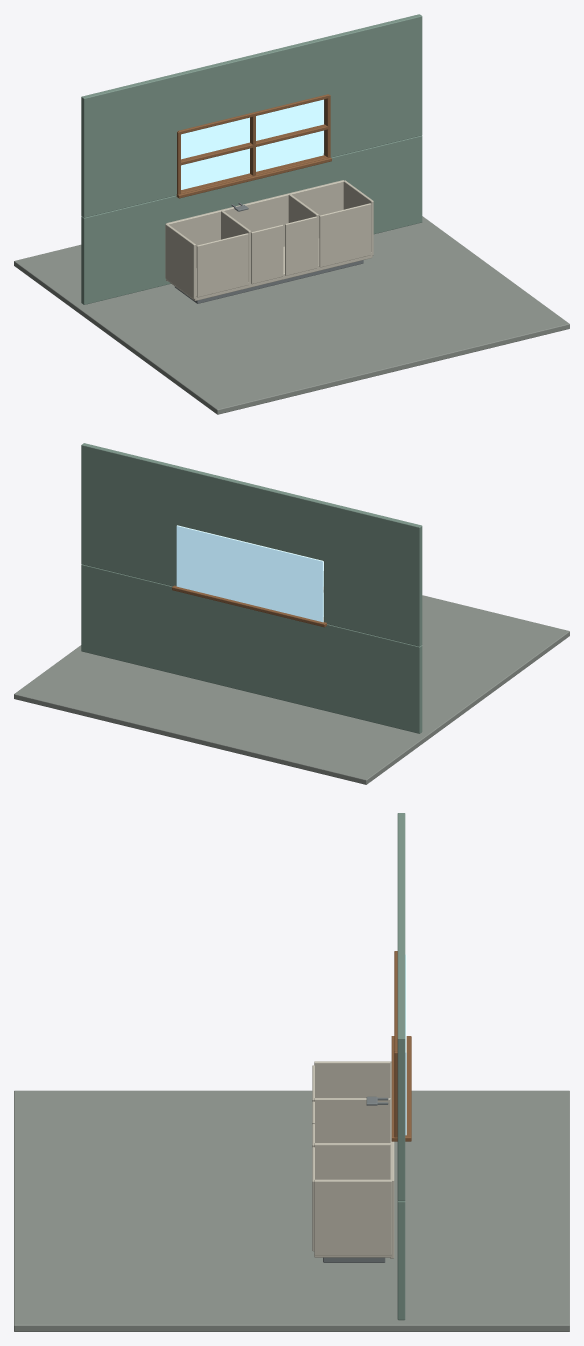
The model's file is kitchen-room-shell.glb.
3 renders of one model, top to bottom at view 1: azimuth 30°, elevation 25°; view 2: azimuth 150°, elevation 25°; view 3: azimuth 270°, elevation 25°, orthographic. The views are drawn at different scales.
Parts seen in each view (by area): view 1: Floor, Backsplash, Wall_Left, Wall_Right, Wall_Above_Window, Window_Background, Cabinet_Back, Cabinet_Front_0, Cabinet_Front_3, Cabinet_Side_0, Cabinet_Front_1, Cabinet_Front_2 (+9 smaller); view 2: Floor, Backsplash, Wall_Left, Wall_Right, Window_Background, Wall_Above_Window, Window_Sill; view 3: Floor, Cabinet_Side_3, Cabinet_Side_1, Cabinet_Side_2, Cabinet_Side_0, Wall_Right, Window_Sill, Backsplash, Wall_Above_Window.
Part boxes in pixels (bbox=[...]): Floor: bbox=[14, 216, 569, 414]; Backsplash: bbox=[81, 135, 422, 304]; Wall_Left: bbox=[81, 73, 179, 217]; Wall_Right: bbox=[324, 14, 422, 157]; Wall_Above_Window: bbox=[176, 37, 327, 130]; Window_Background: bbox=[181, 99, 323, 189]; Cabinet_Back: bbox=[166, 180, 343, 281]; Cabinet_Front_0: bbox=[196, 233, 248, 297]; Cabinet_Front_3: bbox=[319, 203, 371, 267]; Cabinet_Side_0: bbox=[165, 224, 195, 298]; Cabinet_Front_1: bbox=[251, 224, 283, 284]; Cabinet_Front_2: bbox=[285, 216, 316, 275]; Floor: bbox=[14, 571, 569, 784]; Backsplash: bbox=[81, 564, 422, 733]; Wall_Left: bbox=[324, 502, 422, 646]; Wall_Right: bbox=[81, 443, 178, 586]; Window_Background: bbox=[176, 525, 323, 622]; Wall_Above_Window: bbox=[176, 466, 326, 560]; Window_Sill: bbox=[172, 585, 326, 627]; Floor: bbox=[14, 1090, 569, 1331]; Cabinet_Side_3: bbox=[314, 1179, 391, 1255]; Cabinet_Side_1: bbox=[314, 1098, 390, 1142]; Cabinet_Side_2: bbox=[314, 1143, 391, 1179]; Cabinet_Side_0: bbox=[314, 1061, 391, 1097]; Wall_Right: bbox=[397, 975, 405, 1201]; Window_Sill: bbox=[391, 1036, 411, 1141]; Backsplash: bbox=[397, 1201, 405, 1320]; Wall_Above_Window: bbox=[397, 876, 405, 974].
Bounding box in the file's own units: 5 × 2.87 × 5.
